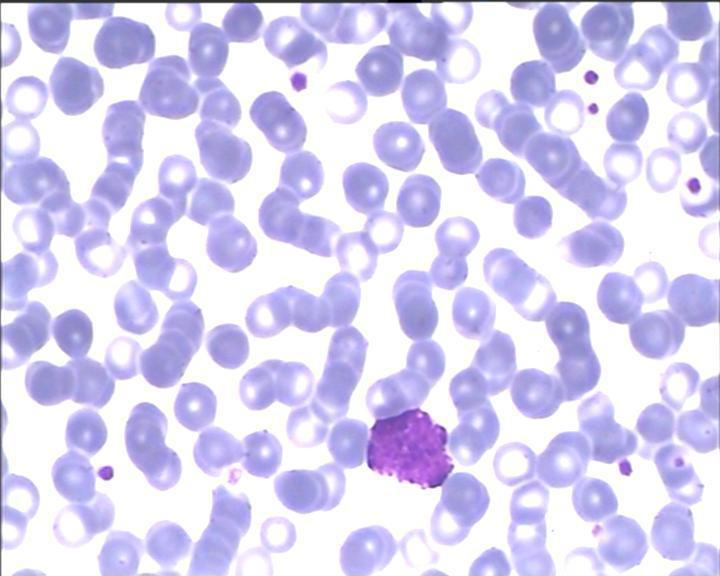baso: (363, 408, 455, 492)
